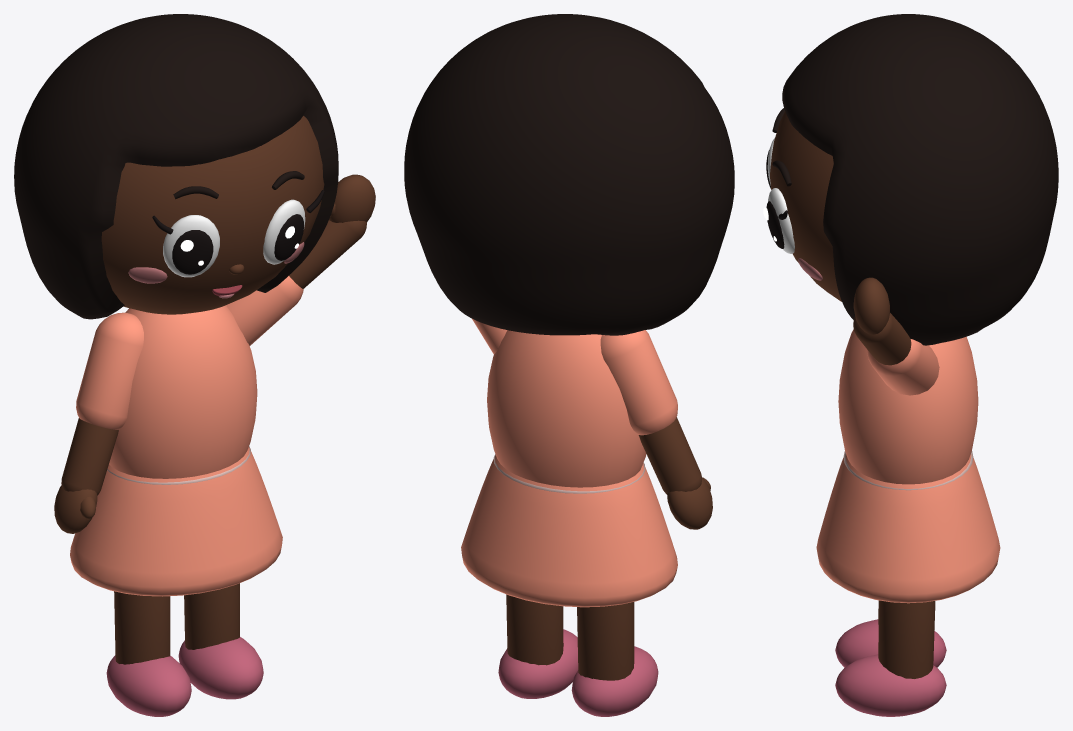
File: mother.glb
3 renders of one model, left to right at view 1: azimuth 30°, elevation 25°; view 2: azimuth 150°, elevation 25°; view 3: azimuth 270°, elevation 25°, orthographic. The views are drawn at different scales.
Visible parts, largest first — view 1: mother; view 2: mother; view 3: mother.
Part boxes in pixels (x1,y1,x2,y2): mother: [14, 14, 375, 716]; mother: [404, 14, 734, 716]; mother: [763, 14, 1058, 716].
Size of the model in its own units: 0.8168 by 1.6 by 0.6491.
